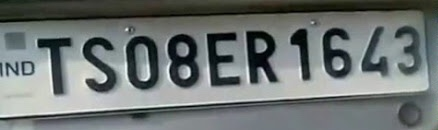numberplate: (1, 8, 429, 124)
